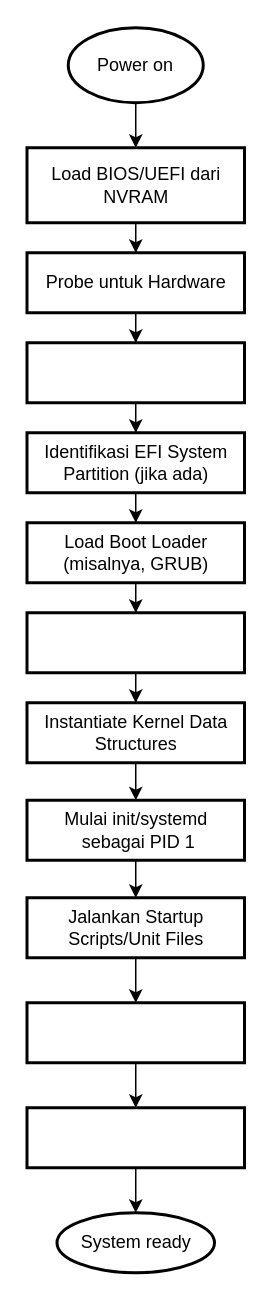
The diagram is 272 pixels wide and 1299 high, and some of its shapes have lost their labels. The box of each missing label's shape, as (x1, y1, x2, y2) in pixels:
Login Prompt atau GUI: (25, 1000, 245, 1064)
Pilih Boot Device (Disk, Network, dll.): (25, 340, 245, 404)
Sistem Berjalan (Running System): (25, 1106, 245, 1168)
Tentukan Kernel yang akan di-boot: (25, 610, 245, 674)
